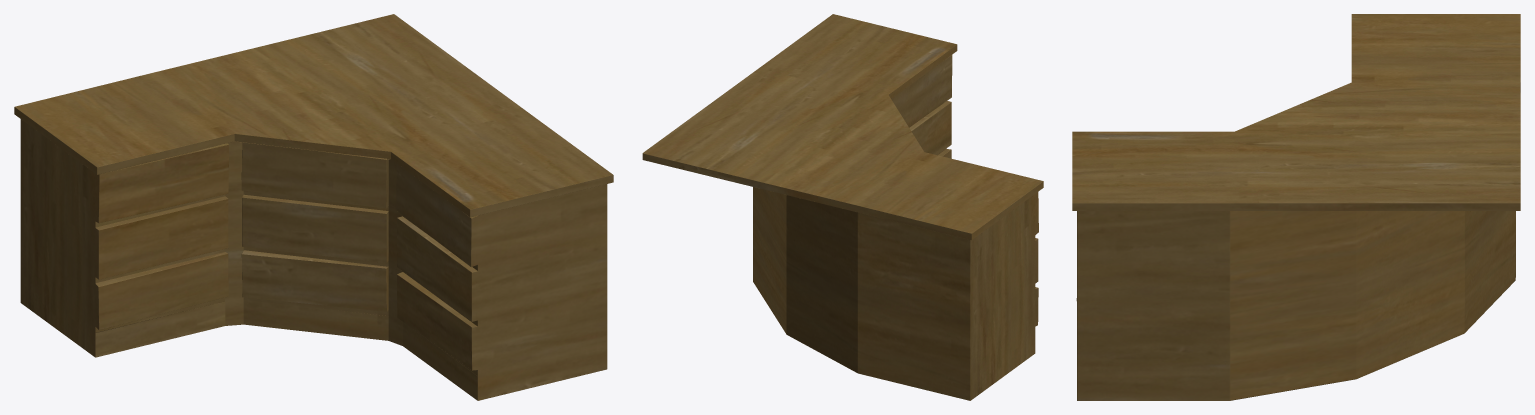
File: Cabinet6.fbx
3 views of the same model, side by side, from view 1: azimuth 30°, elevation 25°; view 2: azimuth 150°, elevation 25°; view 3: azimuth 270°, elevation 25° (orthographic). The views are drawn at different scales.
Visible parts, largest first — view 1: Cabinet6; view 2: Cabinet6; view 3: Cabinet6.
Part boxes in pixels (bbox=[...]): Cabinet6: bbox=[14, 14, 613, 400]; Cabinet6: bbox=[642, 14, 1043, 400]; Cabinet6: bbox=[1072, 14, 1520, 400].
Bounding box in the file's own units: 642 × 316 × 643.
